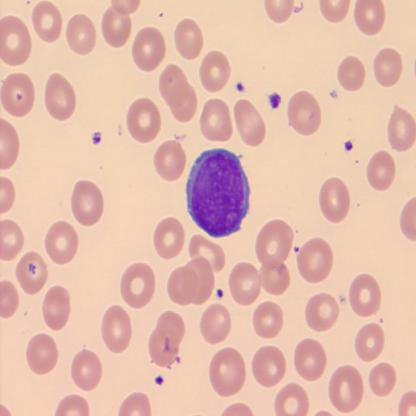Blast: (184, 146, 252, 240)
